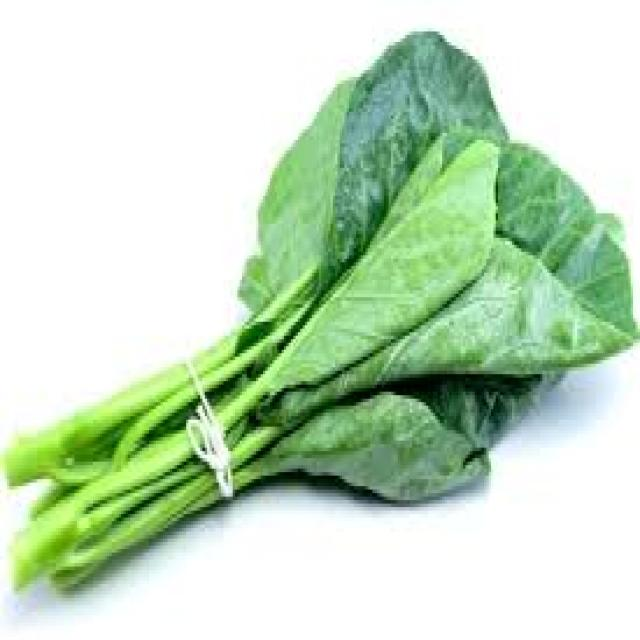collard: (42, 38, 624, 574)
